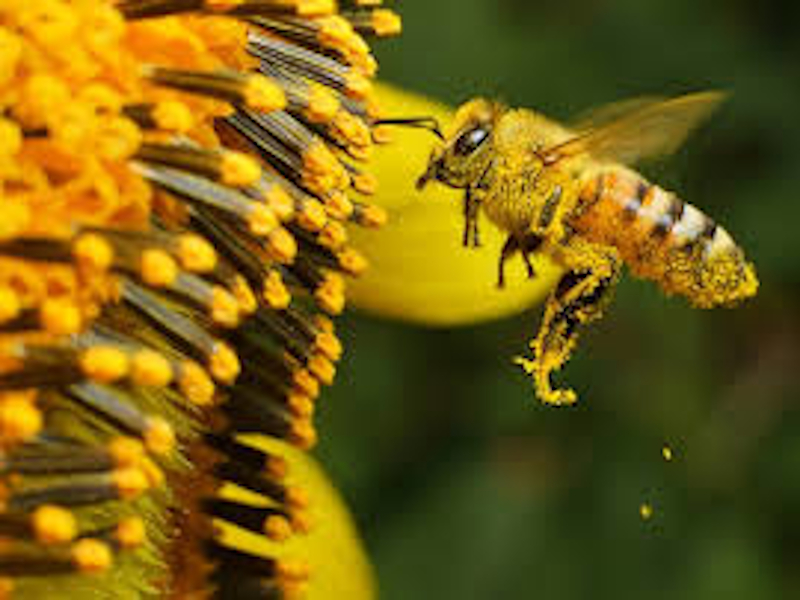abeja: (361, 45, 751, 410)
